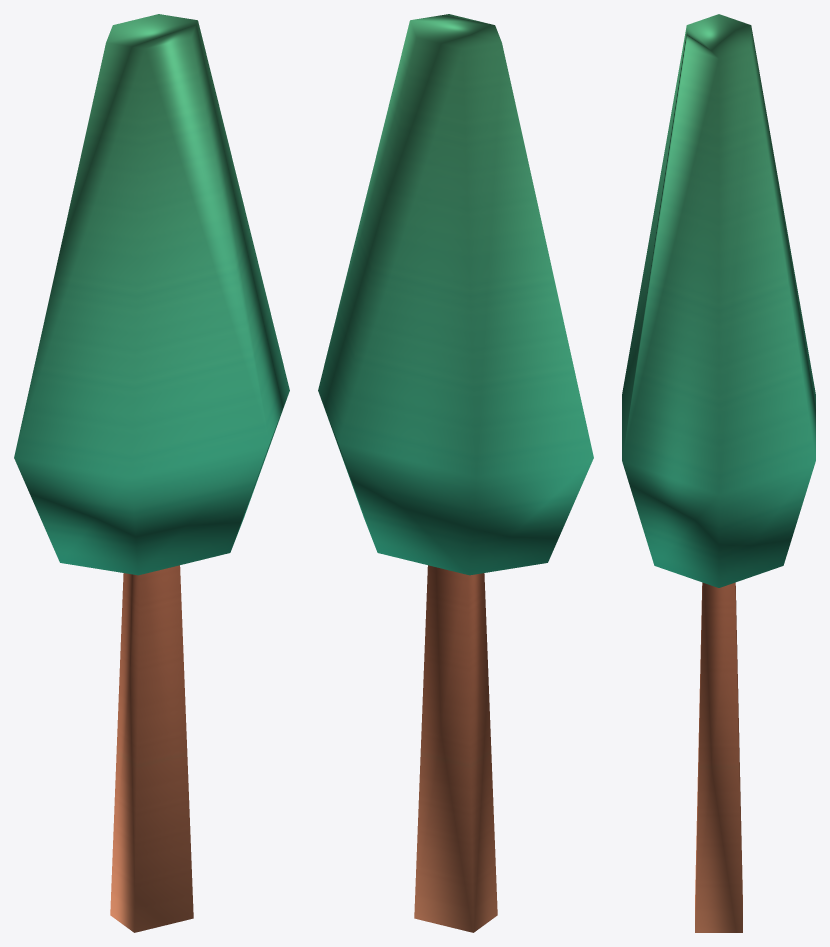
The model's file is n1_tree-large_lev1.024.glb.
3 views of the same model, side by side, from view 1: azimuth 30°, elevation 25°; view 2: azimuth 150°, elevation 25°; view 3: azimuth 270°, elevation 25° (orthographic).
Parts seen in each view (by area): view 1: n1_tree-large_lev1.024; view 2: n1_tree-large_lev1.024; view 3: n1_tree-large_lev1.024.
Boxes of the visible parts, bbox=[...] form: n1_tree-large_lev1.024: bbox=[14, 14, 289, 932]; n1_tree-large_lev1.024: bbox=[318, 14, 593, 932]; n1_tree-large_lev1.024: bbox=[622, 14, 815, 932].
Size of the model in its own units: 1.88 by 5.77 by 1.15.
1 material, 1 textured.
